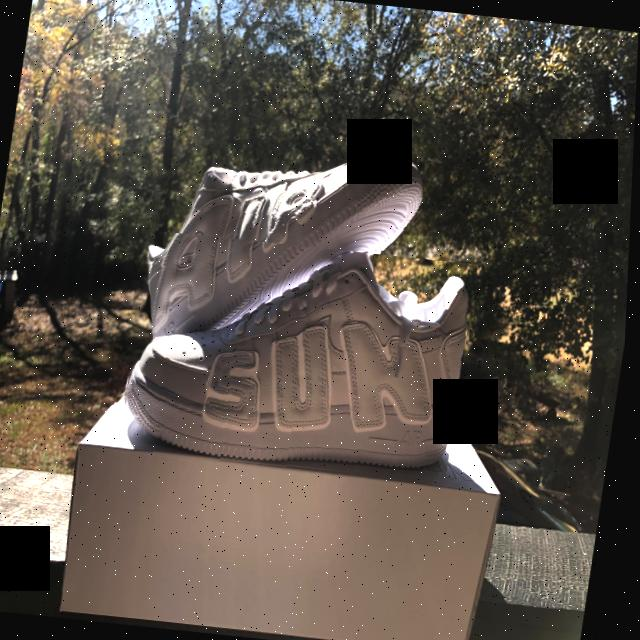shoe: (118, 230, 481, 486), (137, 119, 434, 358)
